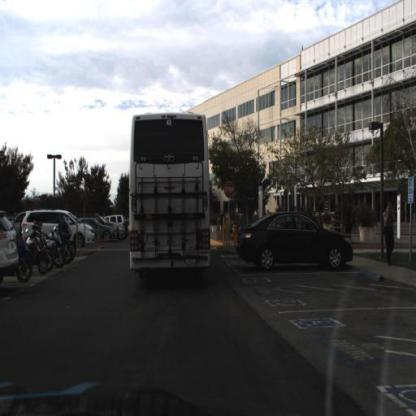car: (235, 209, 357, 273), (22, 209, 97, 253), (1, 209, 20, 293), (96, 219, 117, 244)
pedestrian: (384, 202, 398, 269), (217, 209, 225, 234)
truck: (126, 105, 213, 281)
